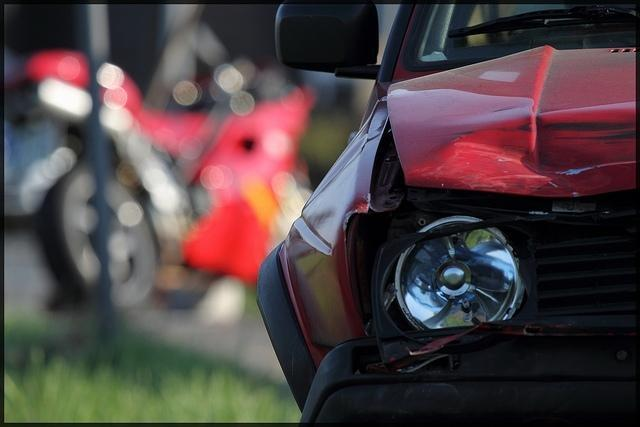car: (252, 2, 638, 423)
motorcycle: (28, 48, 318, 312)
